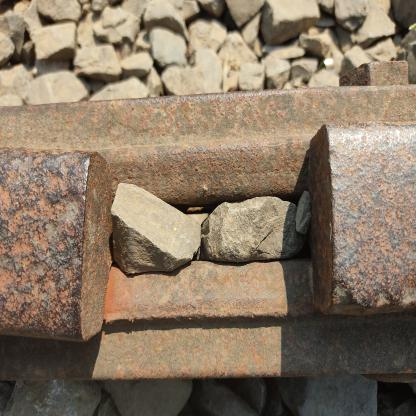Defective: (35, 89, 396, 374)
